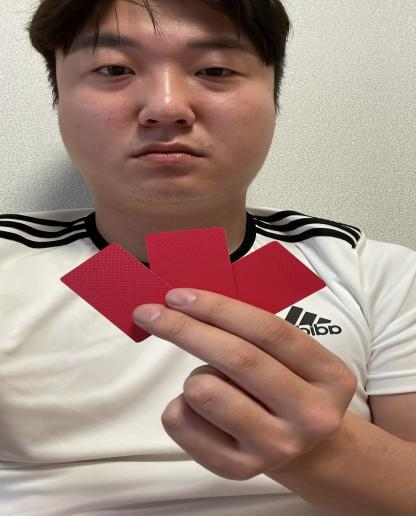ThreeHwatoo: (55, 220, 340, 350)
